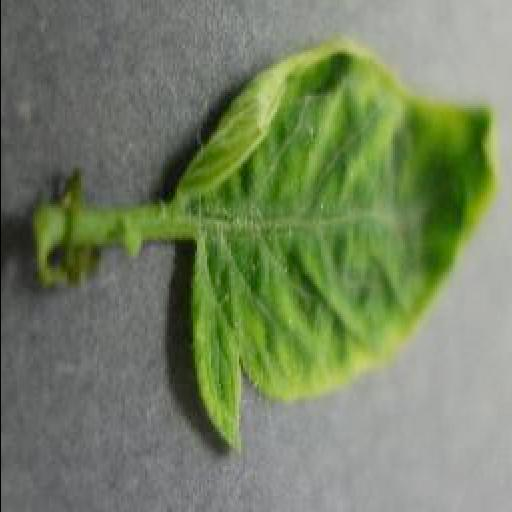disease_tomato: (172, 46, 498, 454)
